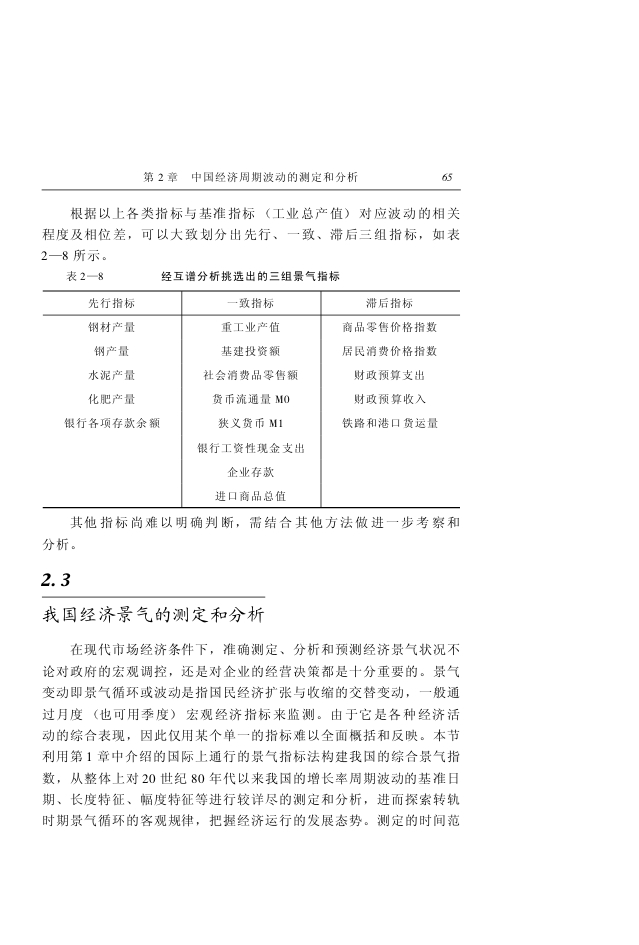table: (42, 291, 460, 508)
